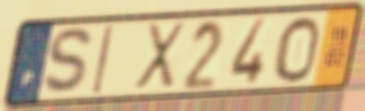2: (179, 18, 227, 91)
4: (226, 17, 268, 87)
I: (90, 23, 116, 97)
O: (272, 14, 322, 85)
S: (40, 25, 97, 99)
X: (131, 20, 188, 92)
